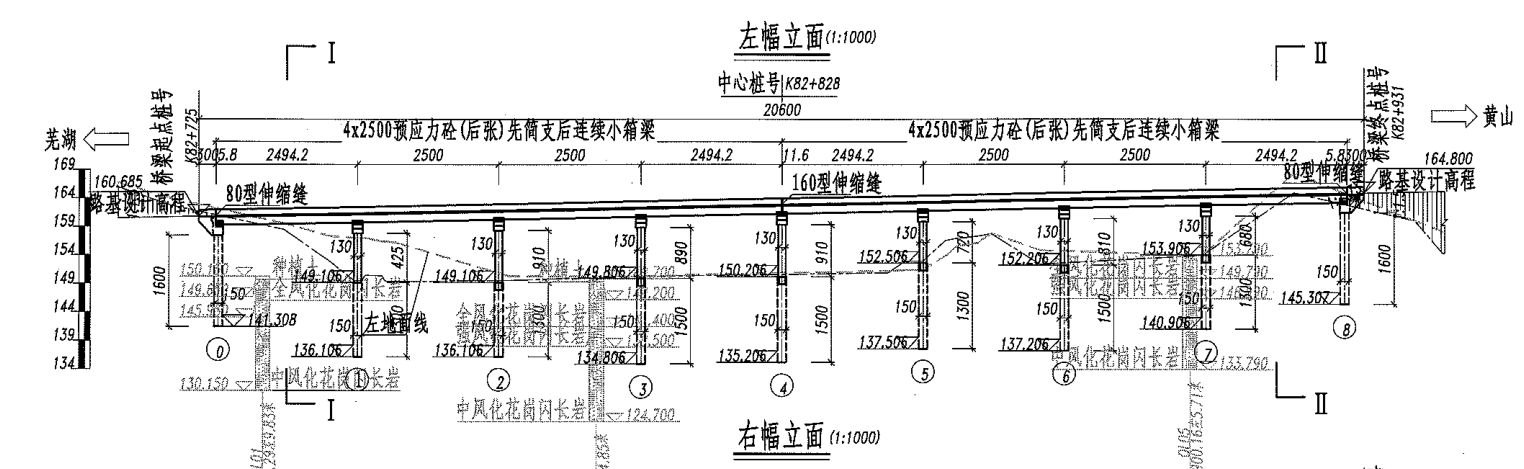B: (780, 112, 1356, 153)
C: (709, 206, 802, 403), (424, 212, 517, 398), (991, 201, 1083, 388), (852, 203, 942, 388), (577, 210, 658, 403), (288, 215, 374, 396), (1138, 198, 1224, 368), (1276, 195, 1366, 351)
